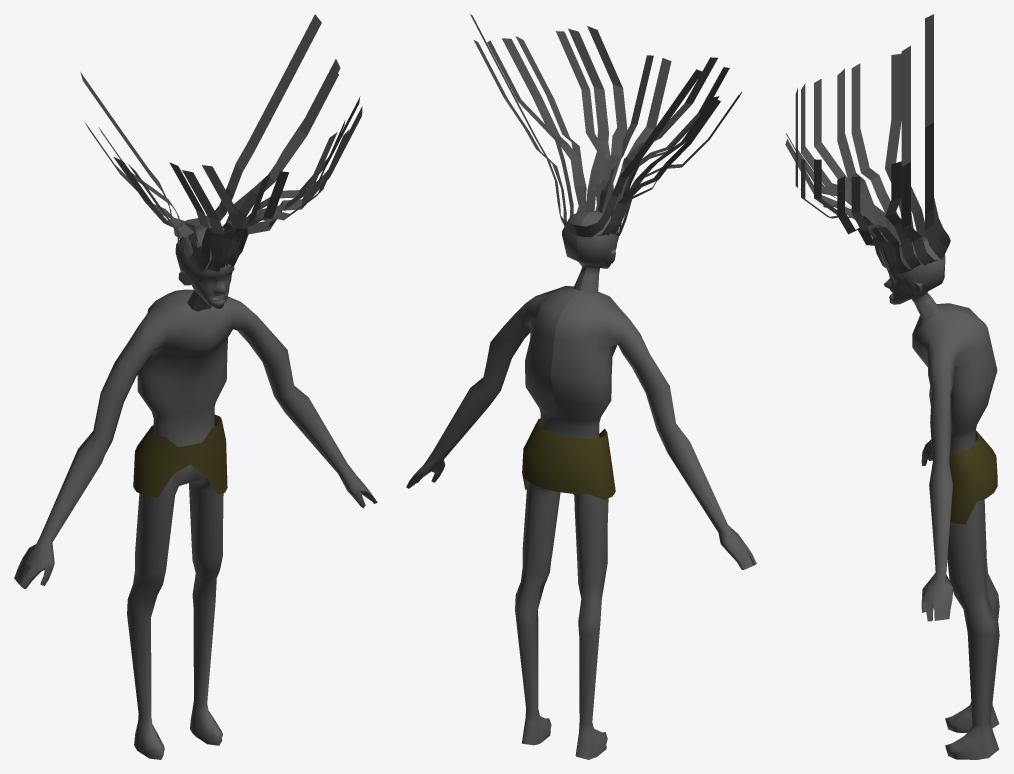
The model's file is monster.FBX.
3 views of the same model, side by side, from view 1: azimuth 30°, elevation 25°; view 2: azimuth 150°, elevation 25°; view 3: azimuth 270°, elevation 25° (orthographic). The views are drawn at different scales.
Parts seen in each view (by area): view 1: Object032, Object017, Cylinder002; view 2: Object032, Object017, Cylinder002; view 3: Object032, Object017, Cylinder002.
Part boxes in pixels (left/top/right/bottom): Object032: left=14, top=226, right=377, bottom=759; Object017: left=80, top=14, right=362, bottom=272; Cylinder002: left=133, top=414, right=227, bottom=497; Object032: left=406, top=211, right=756, bottom=759; Object017: left=470, top=14, right=741, bottom=238; Cylinder002: left=522, top=418, right=615, bottom=499; Object032: left=884, top=237, right=999, bottom=759; Object017: left=785, top=14, right=950, bottom=274; Cylinder002: left=949, top=430, right=997, bottom=524.
Bounding box in the file's own units: 2.24 × 4.32 × 1.24.
